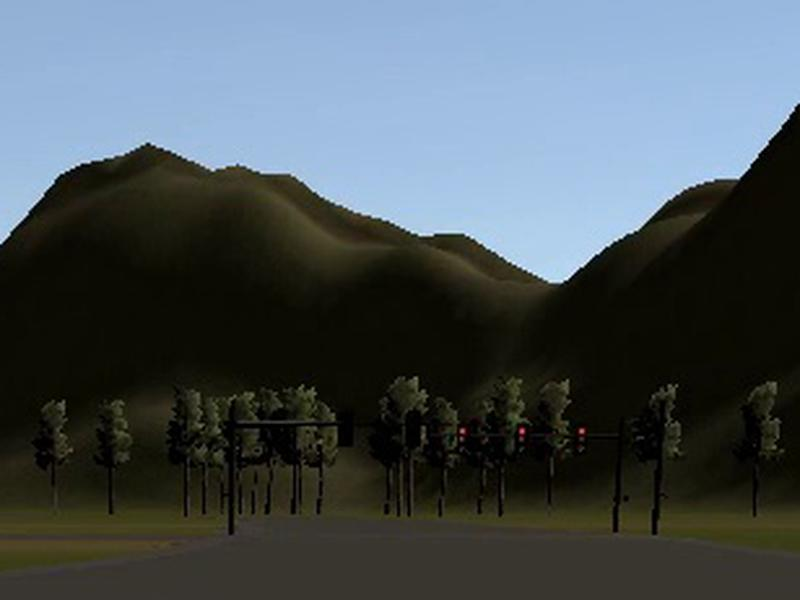Red: (514, 424, 529, 457), (574, 425, 588, 458), (457, 424, 469, 456)
